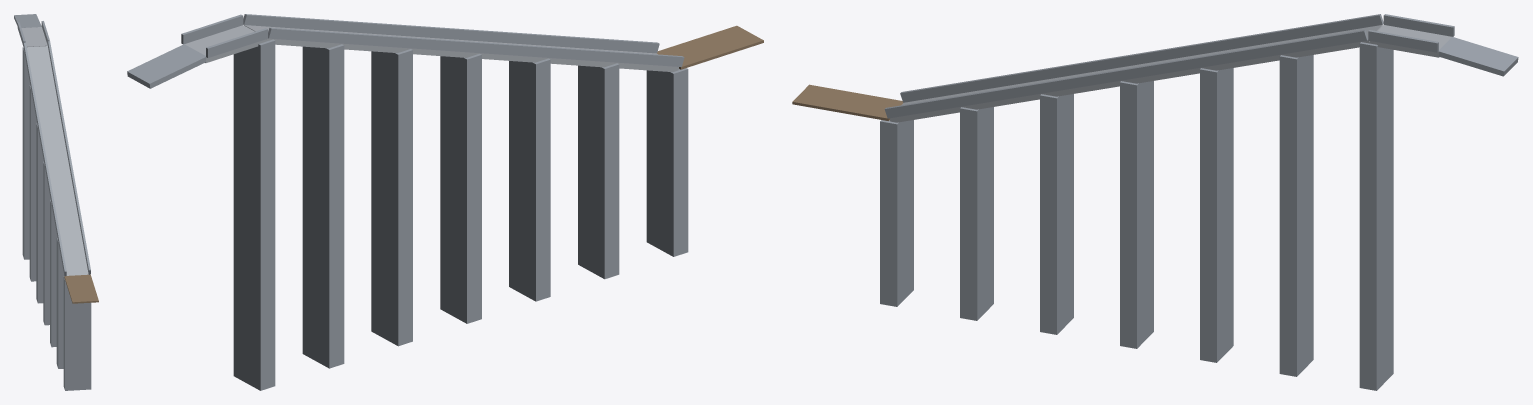
File: frost_landing_aurora_arch_col.glb
3 views of the same model, side by side, from view 1: azimuth 30°, elevation 25°; view 2: azimuth 150°, elevation 25°; view 3: azimuth 270°, elevation 25° (orthographic). The views are drawn at different scales.
Visible parts, largest first — view 1: geometry_0; view 2: geometry_0; view 3: geometry_0.
Part boxes in pixels (box(x1,y1,x2,y2)): geometry_0: box(14, 14, 98, 390); geometry_0: box(127, 14, 763, 390); geometry_0: box(792, 14, 1518, 390).
Bounding box in the file's own units: 28.65 × 34.13 × 62.7.
